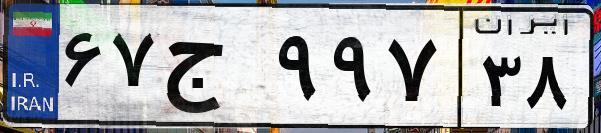3: (475, 38, 525, 113)
6: (57, 26, 110, 100)
7: (385, 28, 445, 110), (110, 28, 158, 98)
8: (525, 38, 570, 115)
9: (270, 28, 330, 110), (330, 28, 385, 110)
ج: (158, 20, 270, 120)
